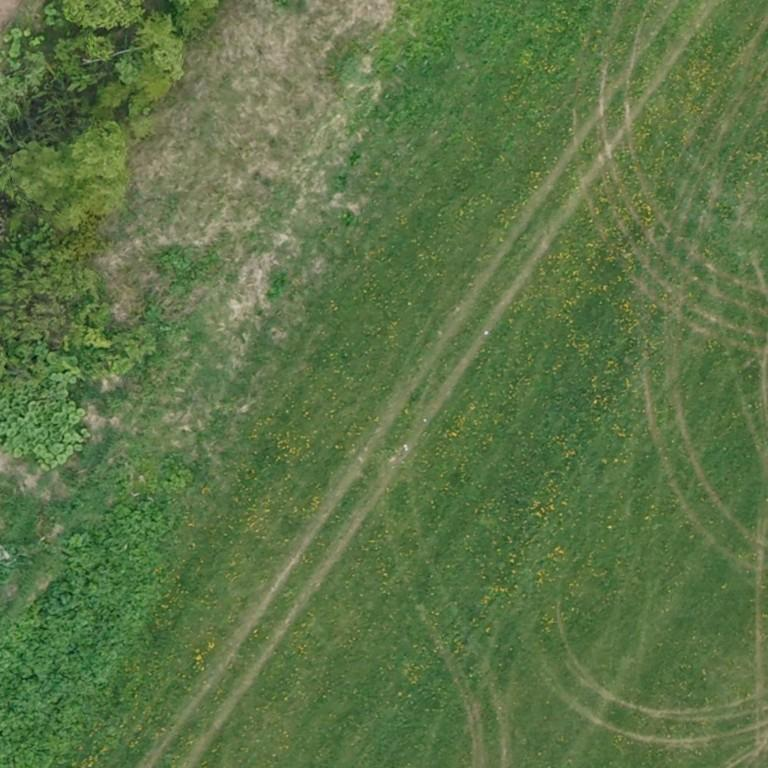hogweed: (0, 502, 180, 767)
